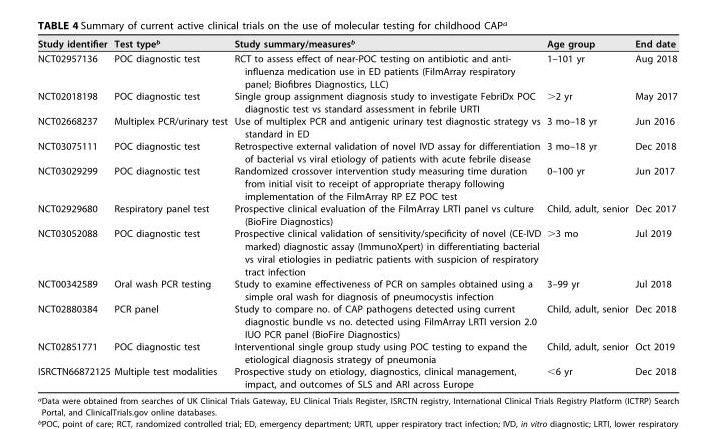table: (37, 37, 676, 389)
table column: (230, 37, 543, 389), (111, 37, 230, 389), (543, 37, 631, 389), (37, 37, 111, 389), (631, 37, 676, 389)
table column header: (37, 37, 676, 50)
table row: (37, 226, 676, 277), (37, 50, 676, 89), (37, 164, 676, 201), (37, 302, 676, 339), (37, 89, 676, 114), (37, 114, 676, 139), (37, 139, 676, 164), (37, 201, 676, 226), (37, 277, 676, 302), (37, 339, 676, 364), (37, 364, 676, 389), (37, 37, 676, 50)
